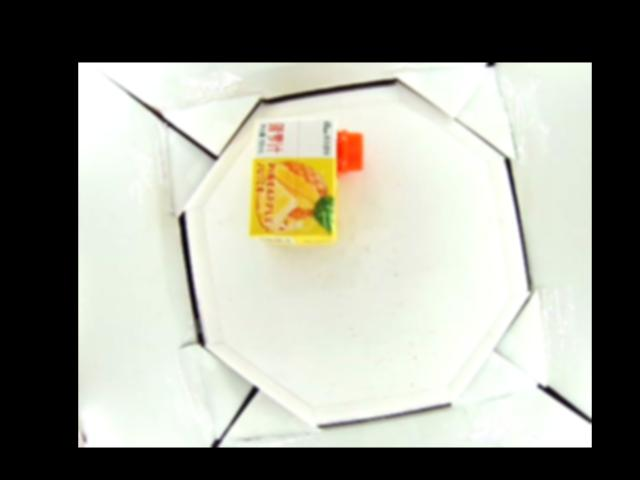Bottle: (246, 114, 365, 242)
